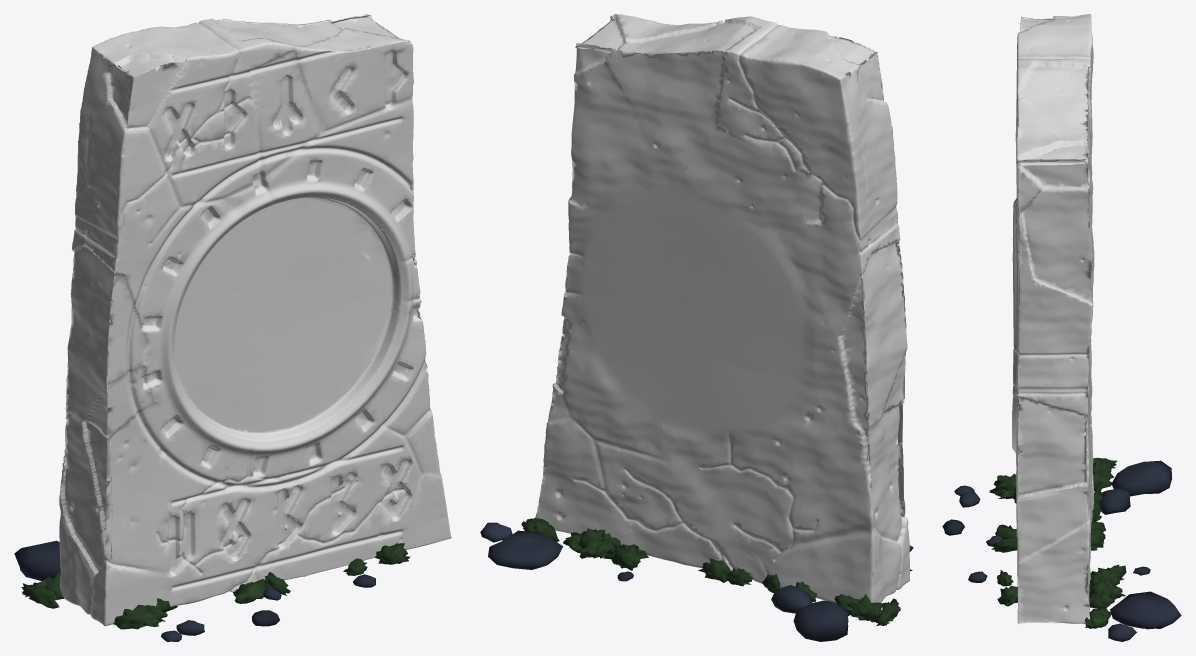
The model's file is runestone_b.glb.
3 views of the same model, side by side, from view 1: azimuth 30°, elevation 25°; view 2: azimuth 150°, elevation 25°; view 3: azimuth 270°, elevation 25° (orthographic). The views are drawn at different scales.
Visible parts, largest first — view 1: Stone, Debris; view 2: Stone, Debris; view 3: Stone, Debris.
Boxes of the visible parts, <box> form: Stone: <box>59,14,451,626</box>; Debris: <box>14,540,410,641</box>; Stone: <box>535,14,909,603</box>; Debris: <box>480,518,913,641</box>; Stone: <box>1012,14,1094,624</box>; Debris: <box>942,457,1181,641</box>.
Bounding box in the file's own units: 4.29 × 5.46 × 2.45.
